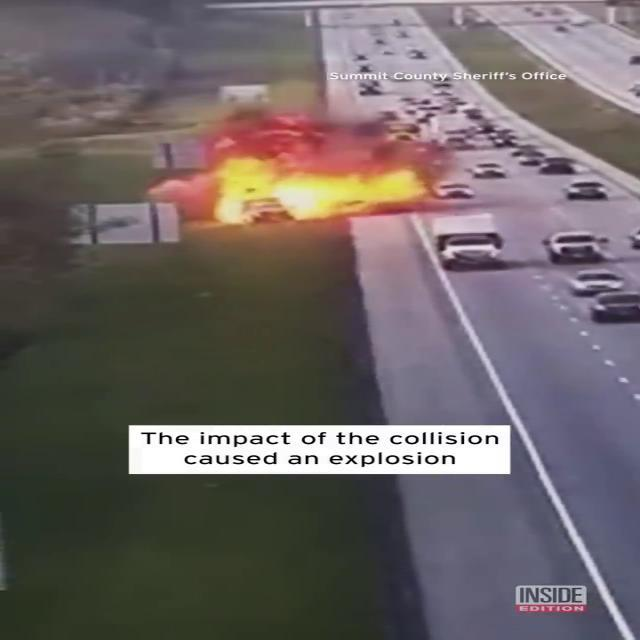Fire: (182, 150, 446, 226)
Smoke: (0, 0, 300, 93)
